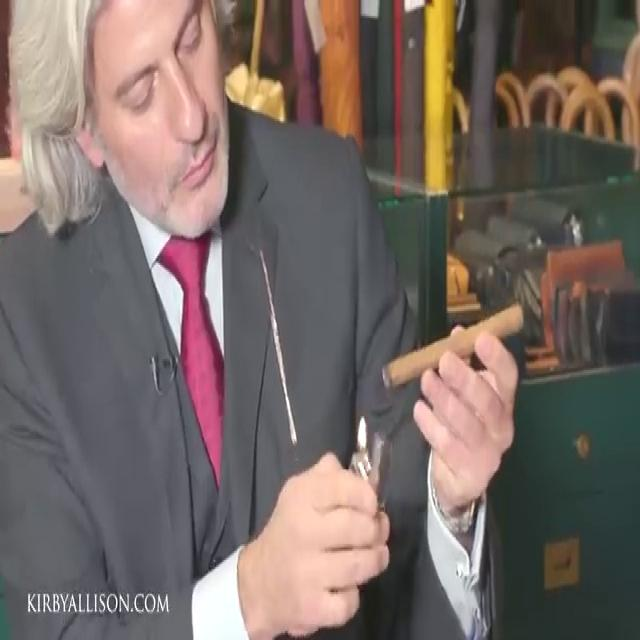Smooking: (371, 286, 538, 403)
